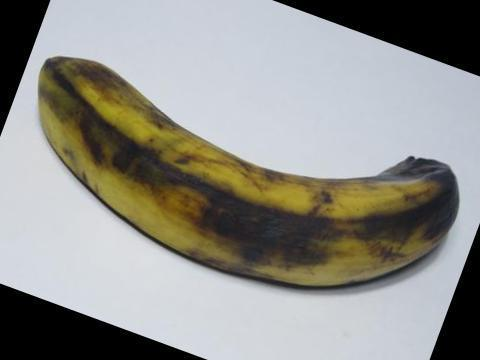overripe: (30, 37, 479, 311)
rotten: (387, 114, 462, 257)
